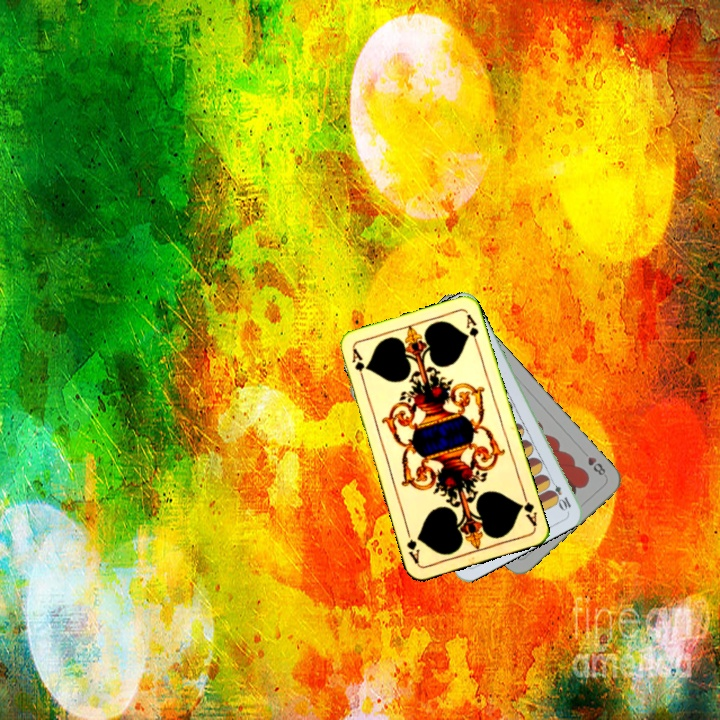E10: (545, 475, 574, 513)
GA: (515, 489, 539, 529), (348, 344, 367, 384)
H8: (584, 453, 608, 478)
